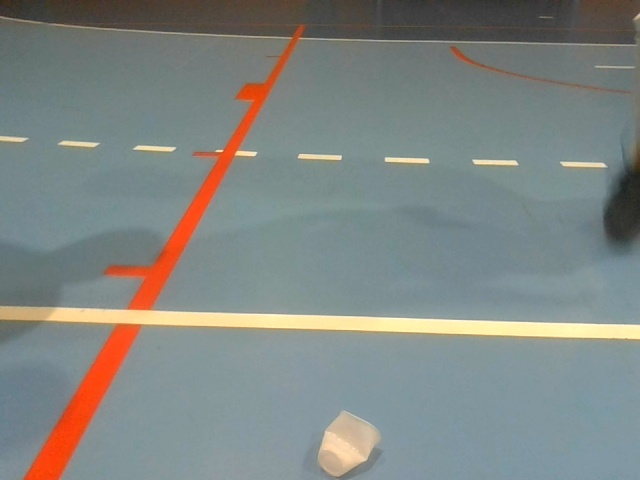plasticcup: (316, 409, 382, 476)
